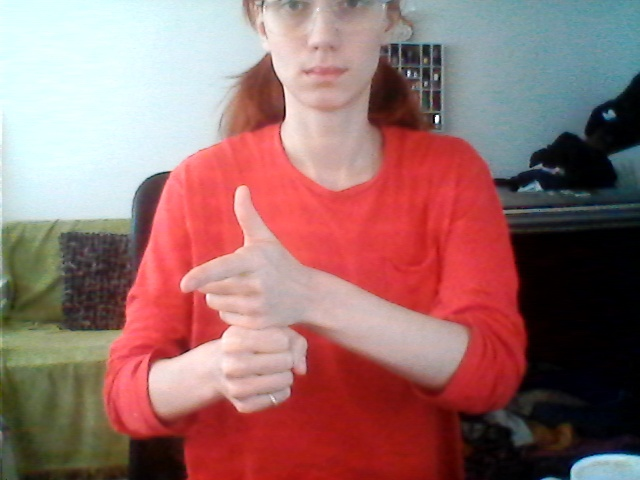kamera: (176, 180, 326, 419)
